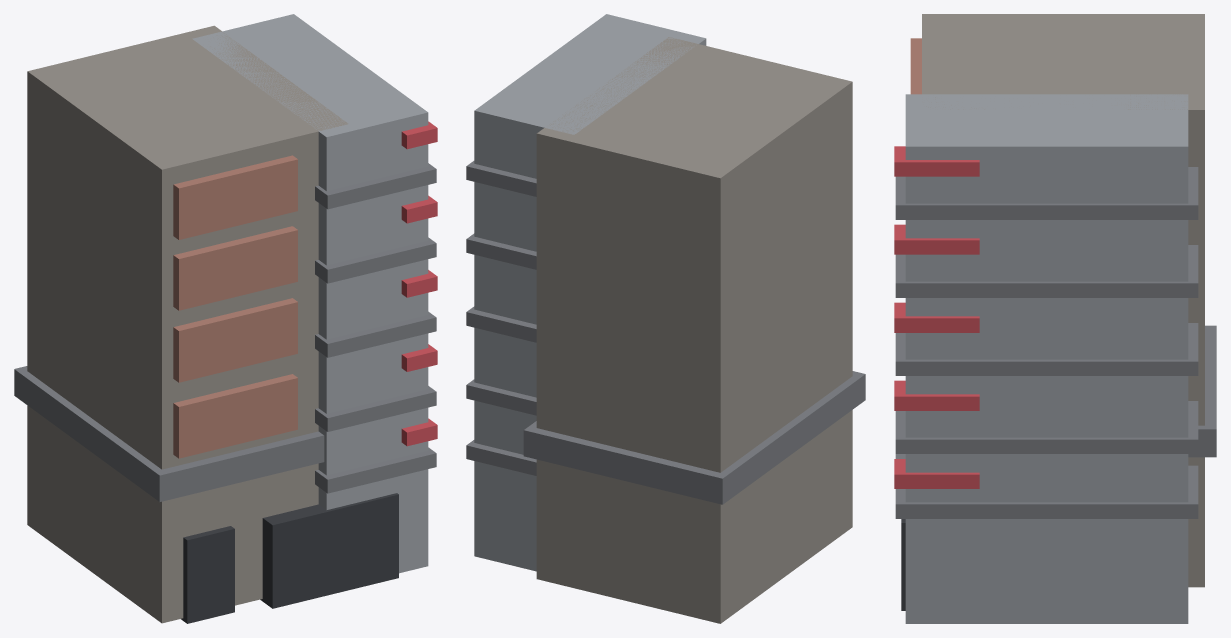
Rendered from Building_02.fbx.
3 views of the same model, side by side, from view 1: azimuth 30°, elevation 25°; view 2: azimuth 150°, elevation 25°; view 3: azimuth 270°, elevation 25° (orthographic). The views are drawn at different scales.
Parts seen in each view (by area): view 1: polySurface1946; view 2: polySurface1946; view 3: polySurface1946.
Part boxes in pixels (left/top/right/bottom): polySurface1946: left=14, top=14, right=437, bottom=623; polySurface1946: left=466, top=14, right=865, bottom=623; polySurface1946: left=894, top=14, right=1216, bottom=623.
Bounding box in the file's own units: 1.31 × 2.12 × 1.29.
